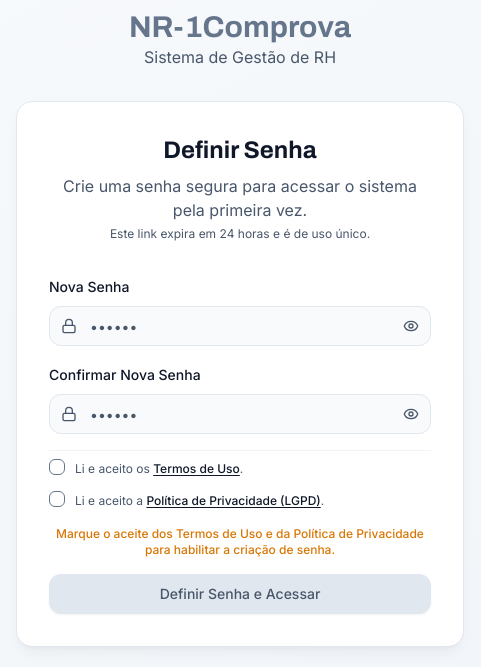
Scenario: AtualizarSenha — Aceite Obrigatório de Termos e Privacidade (LGPD) › no submit com sucesso: chama updateUser e accept_company_terms via RPC com versões vigentes e IP
Later steps or results of the test are not shown.
In the 1st password field with placeholder "••••••": (240, 326) x1=49 y1=306 x2=431 y2=346, type "NovaSenhaSegura123!"
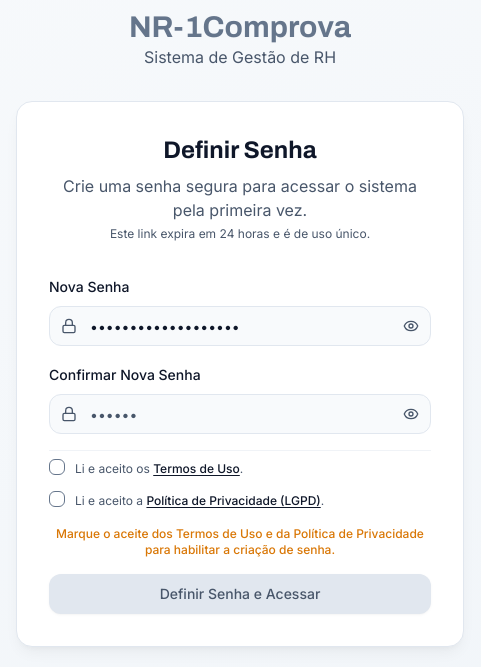
In the password field with placeholder "••••••": (240, 414) x1=49 y1=394 x2=431 y2=434, type "NovaSenhaSegura123!"
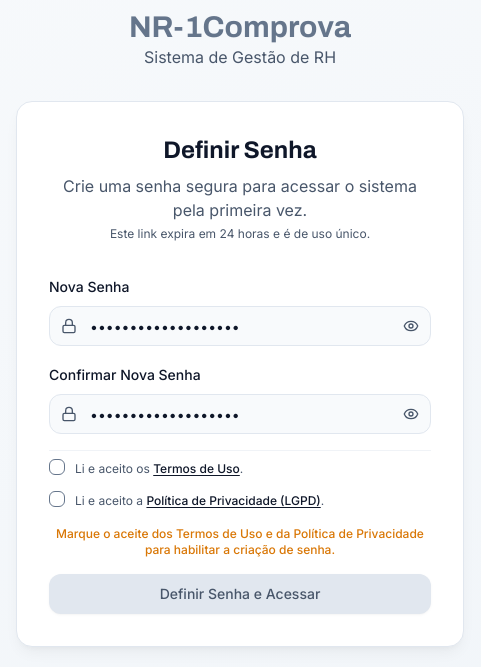
Click the checkbox named "Li e aceito os Termos de Uso" next to "Li e aceito os": (57, 467) x1=49 y1=459 x2=65 y2=475
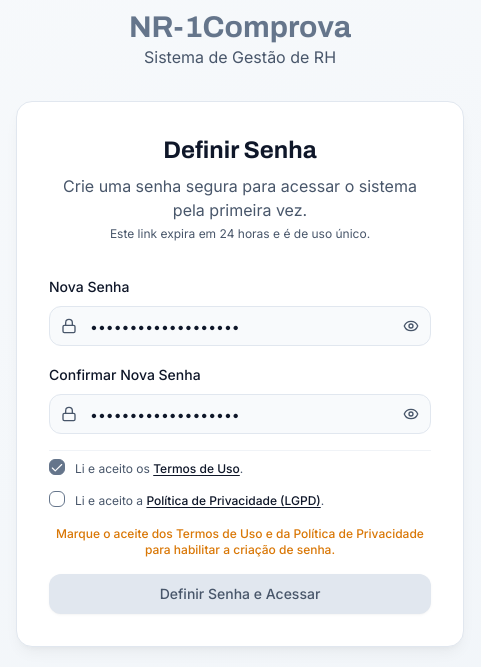
Click the checkbox named "Li e aceito a Política de Privacidade" next to "Li e aceito a": (57, 498) x1=49 y1=490 x2=65 y2=506
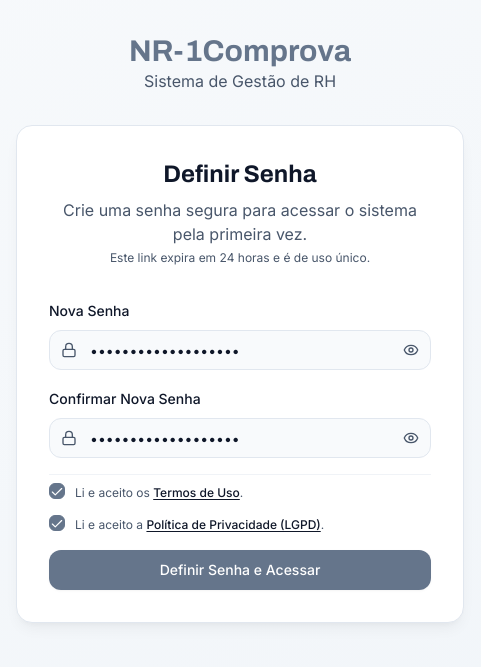
Result: the button "Definir Senha e Acessar" is enabled at x1=49 y1=550 x2=431 y2=590
